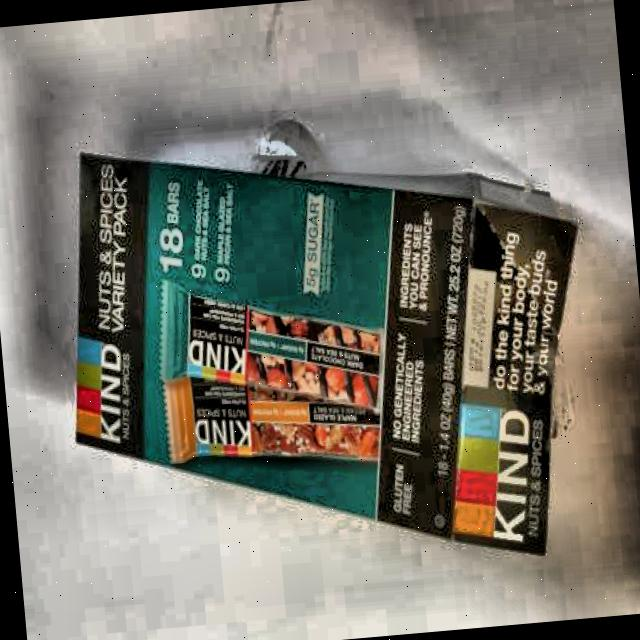paper: (62, 118, 574, 571)
